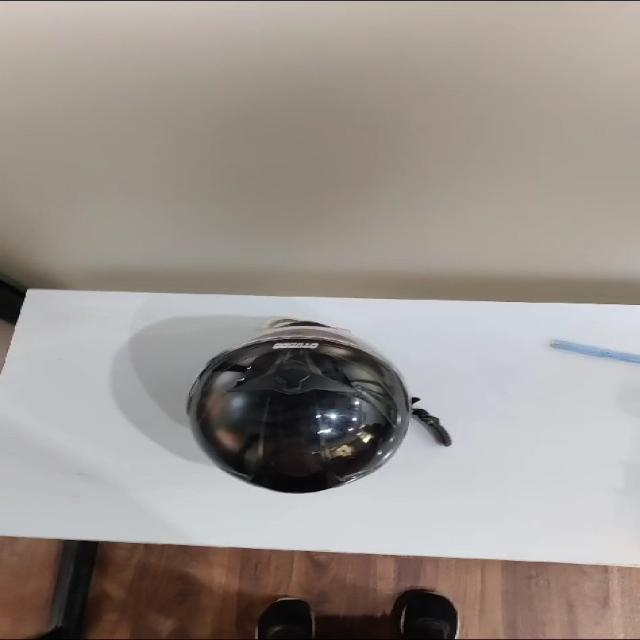helmet: (166, 316, 450, 493), (188, 318, 450, 492)
